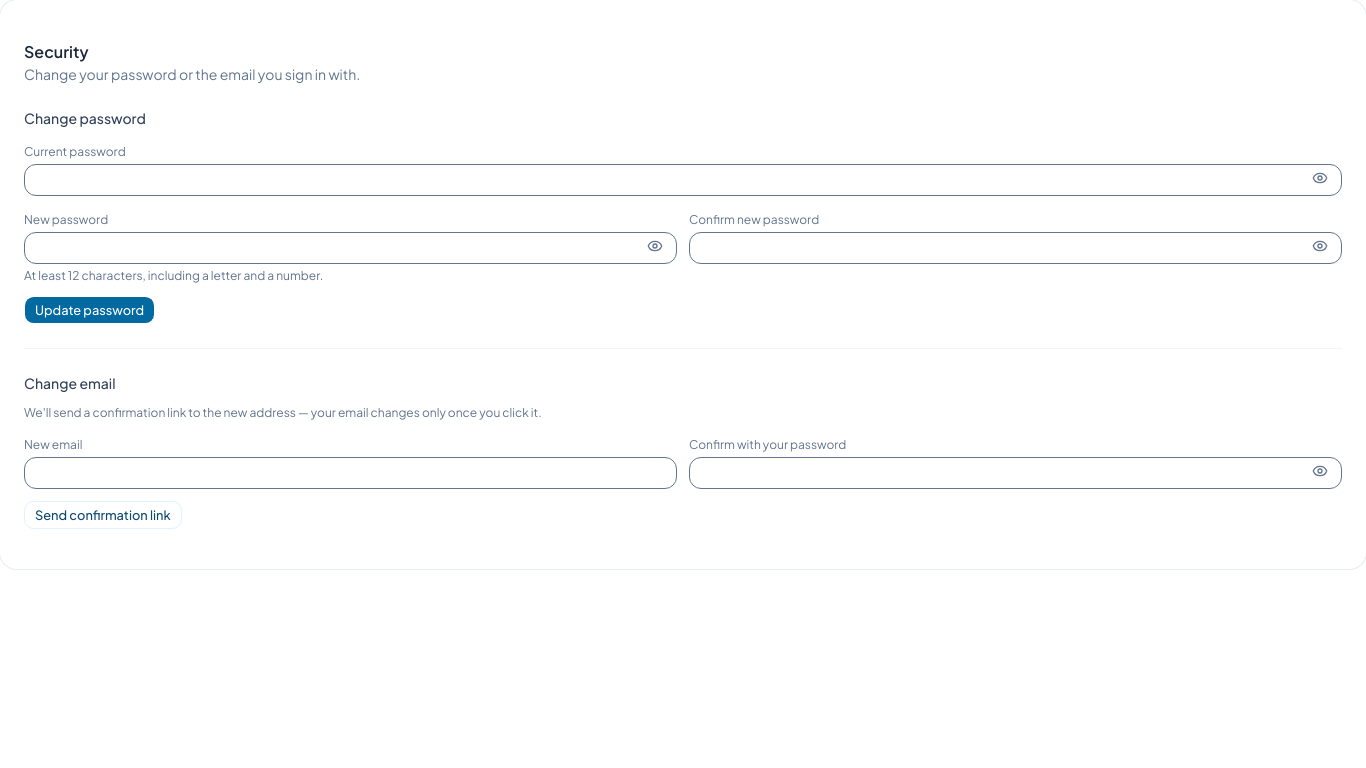
it: SecuritySection — change password (#183) › blocks the request when the confirmation doesn't match
Type "Password1234" into the password field labelled "Current password" at (683,180), box [24,164,1342,196]
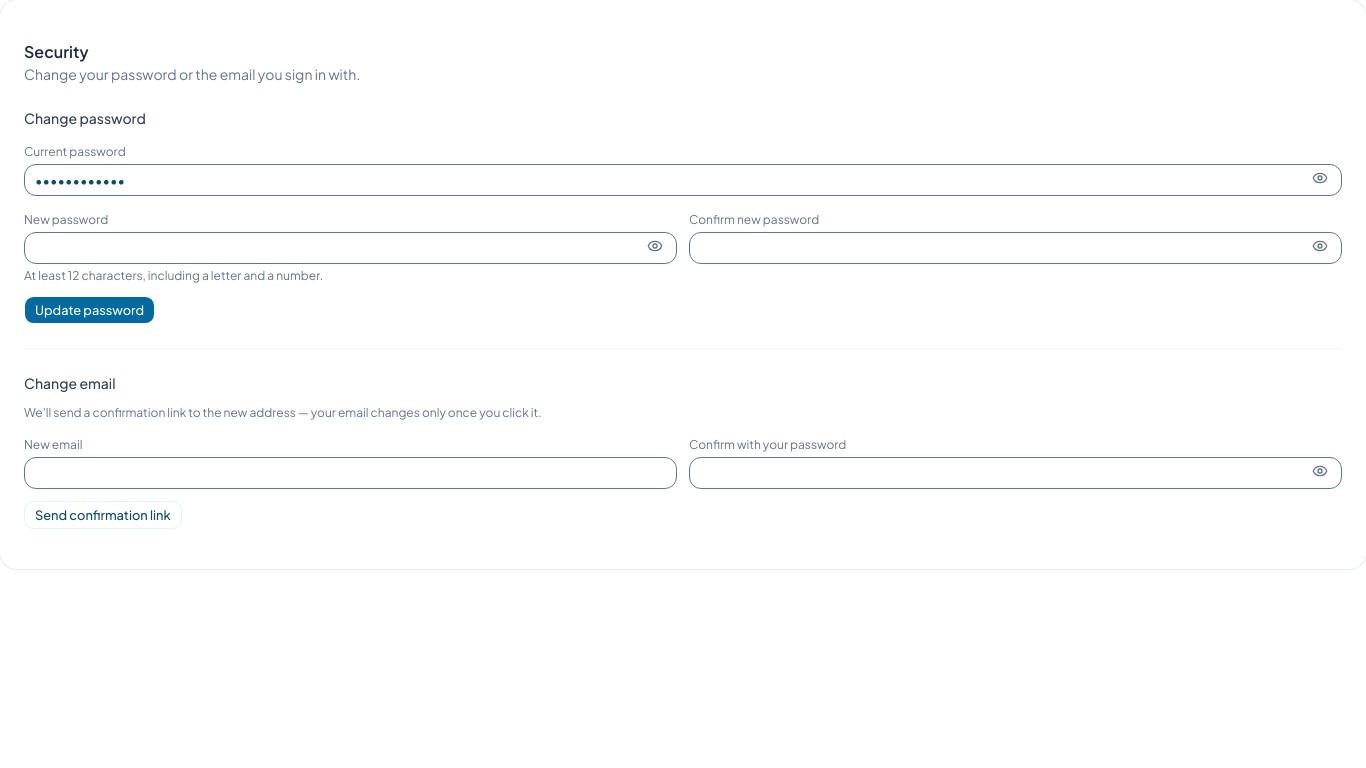
Type "ChangedPass5678" into the password field labelled "New password" at (350,248), box [24,232,677,264]
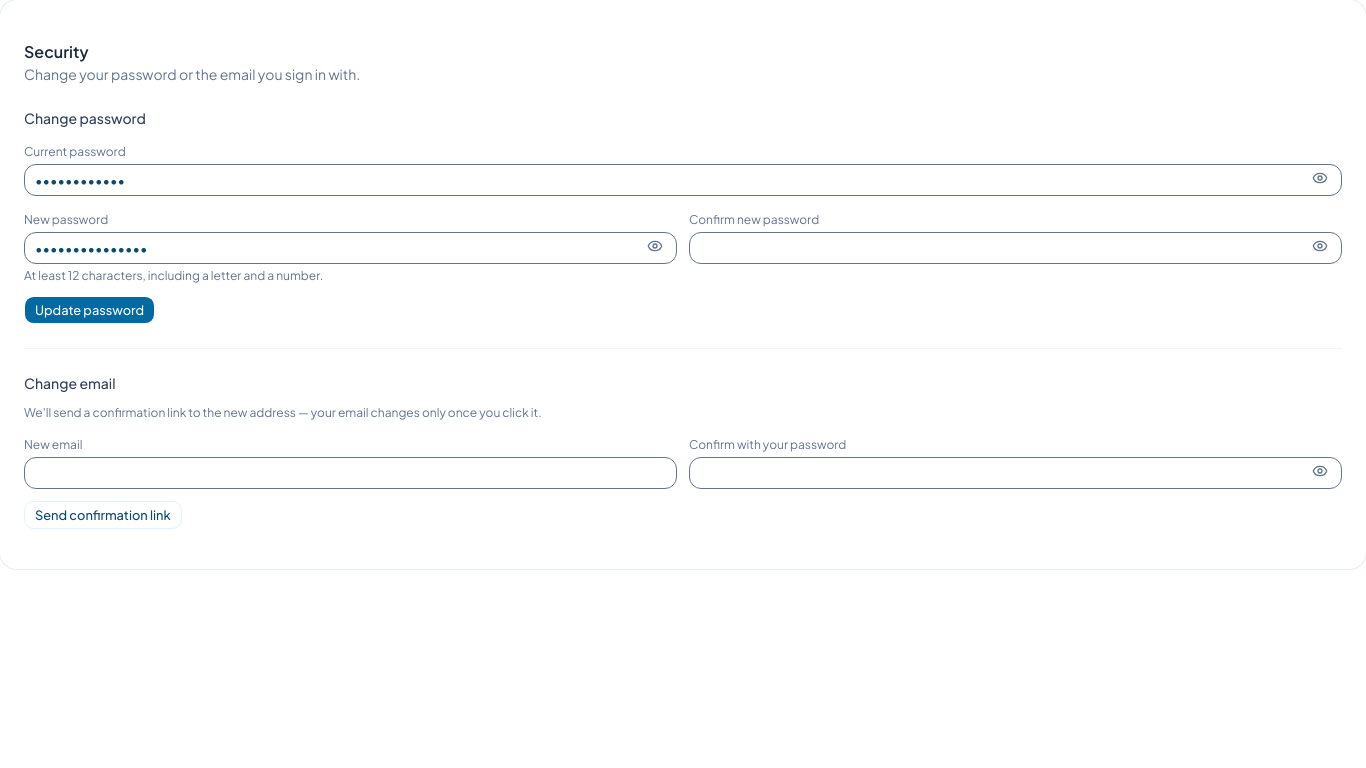
Type "doesNotMatch9" into the password field labelled "Confirm new password" at (1016,248), box [689,232,1342,264]
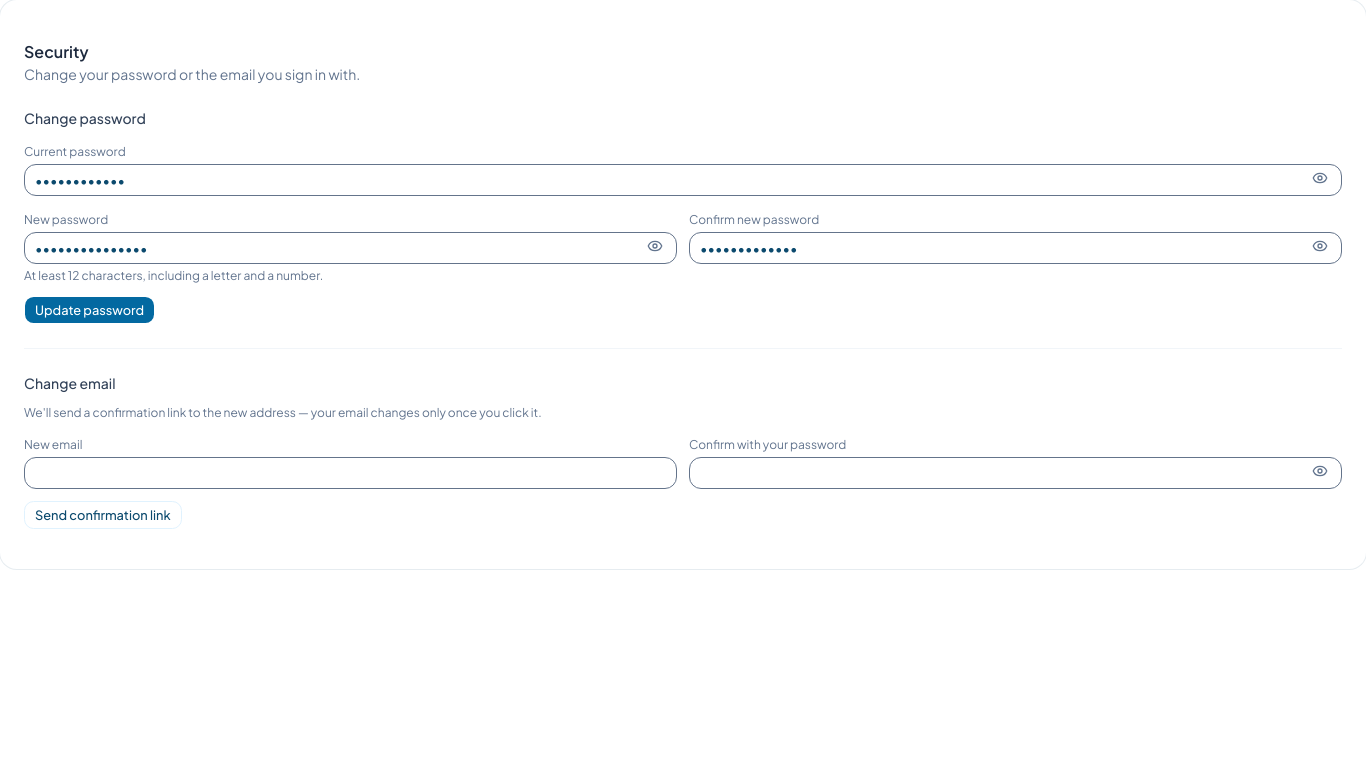
Click the button "Update password" at (90,310), box [24,296,155,324]
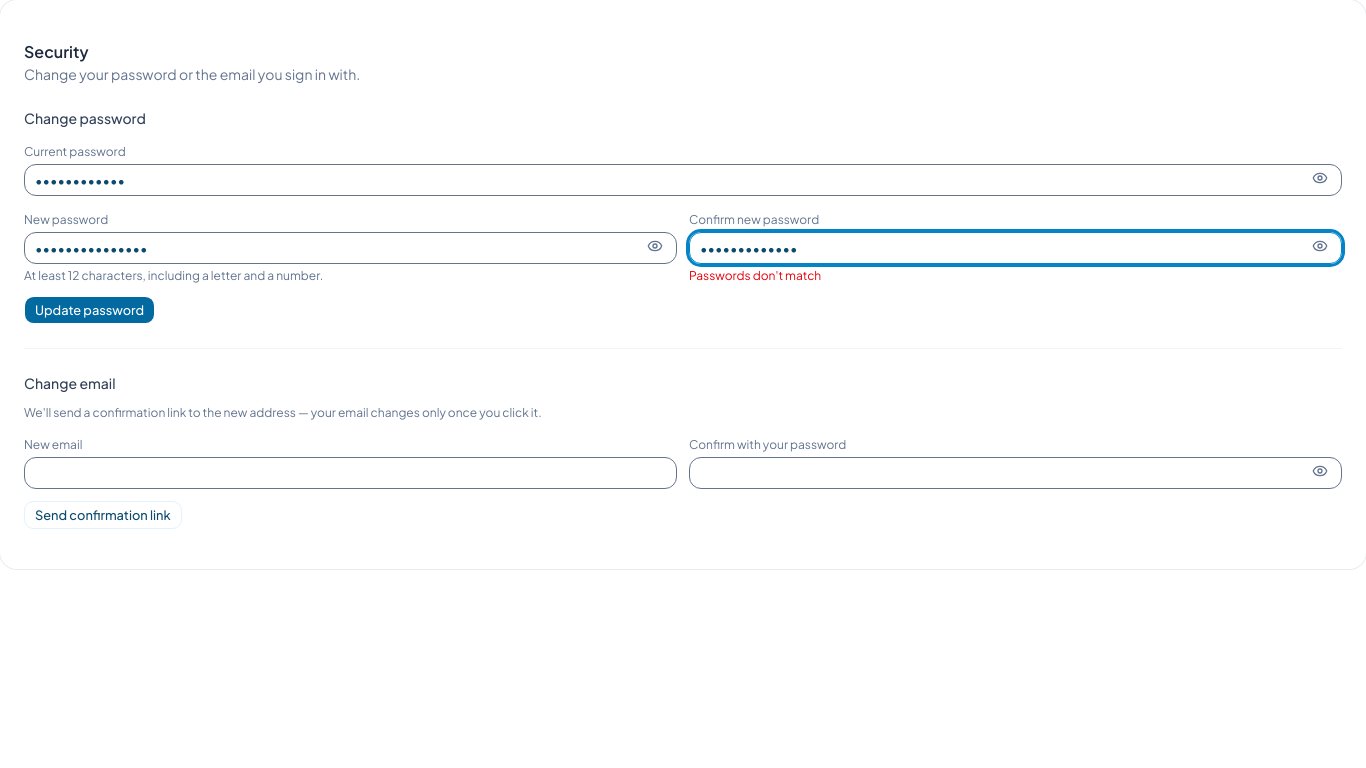
Expected: the text "Passwords don't match" is shown, [689,268,821,283]
